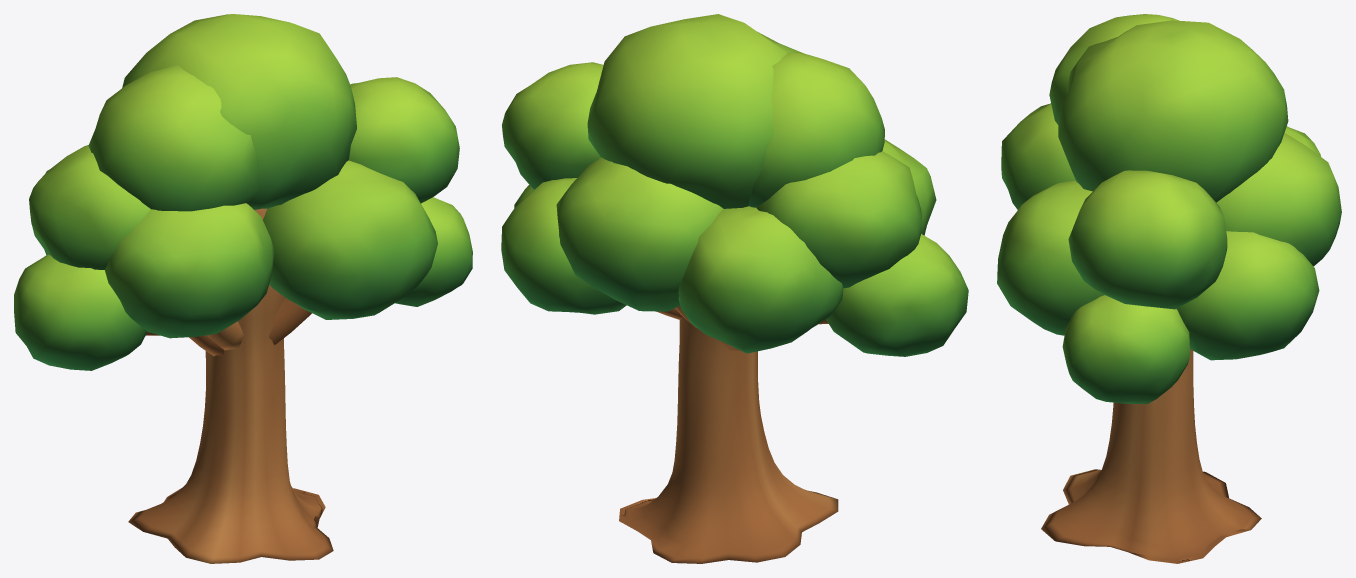
The model's file is tree_oak.glb.
3 renders of one model, left to right at view 1: azimuth 30°, elevation 25°; view 2: azimuth 150°, elevation 25°; view 3: azimuth 270°, elevation 25°, orthographic.
Parts seen in each view (by area): view 1: tree_oak; view 2: tree_oak; view 3: tree_oak.
Part boxes in pixels (<box>): tree_oak: <box>14,14,472,563</box>; tree_oak: <box>501,14,968,563</box>; tree_oak: <box>997,14,1341,563</box>.
Bounding box in the file's own units: 5.46 × 5.91 × 3.76.
